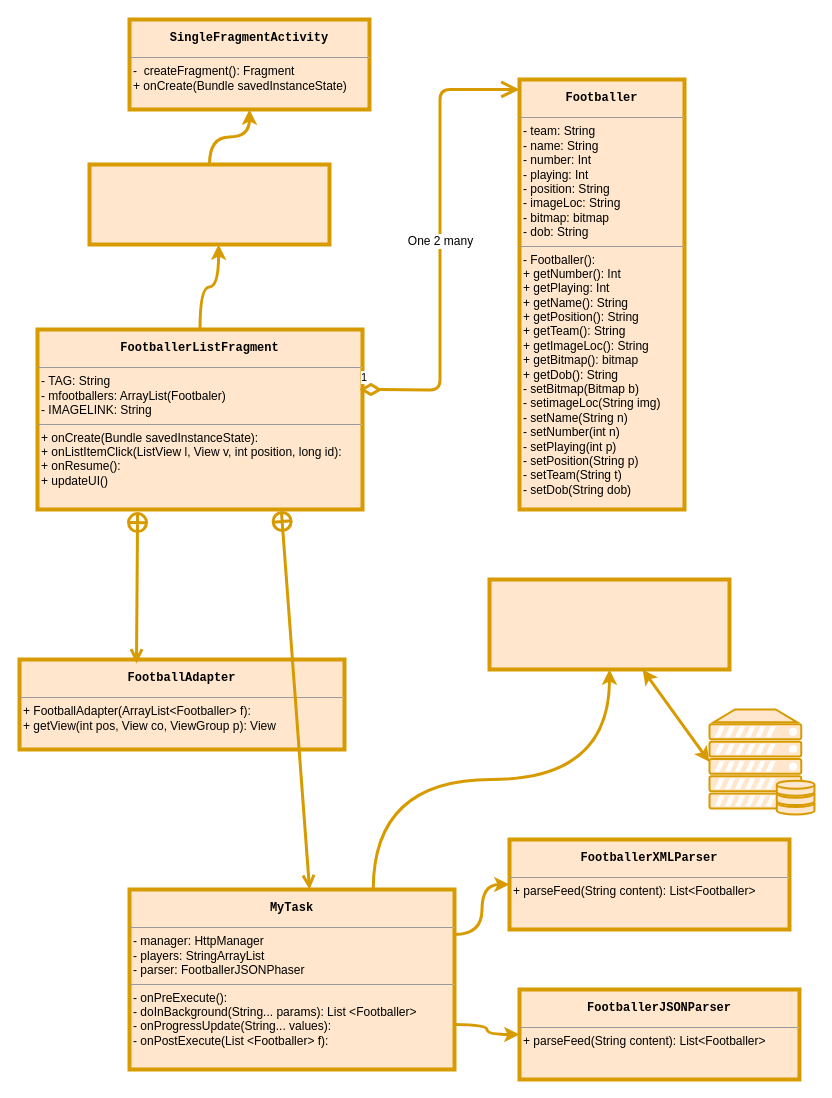
Image size: 832x1098. Some labels were removed from this diagram. The shapes that lost their labels are listed below. From the top down, each one's box as (x1, y1, x2, y2) in pixels, then its label:
(87, 162, 331, 246): FootballerListActivity - createFragment () : Fragment
(487, 577, 731, 671): HttpManager + getData(String URI): String data
